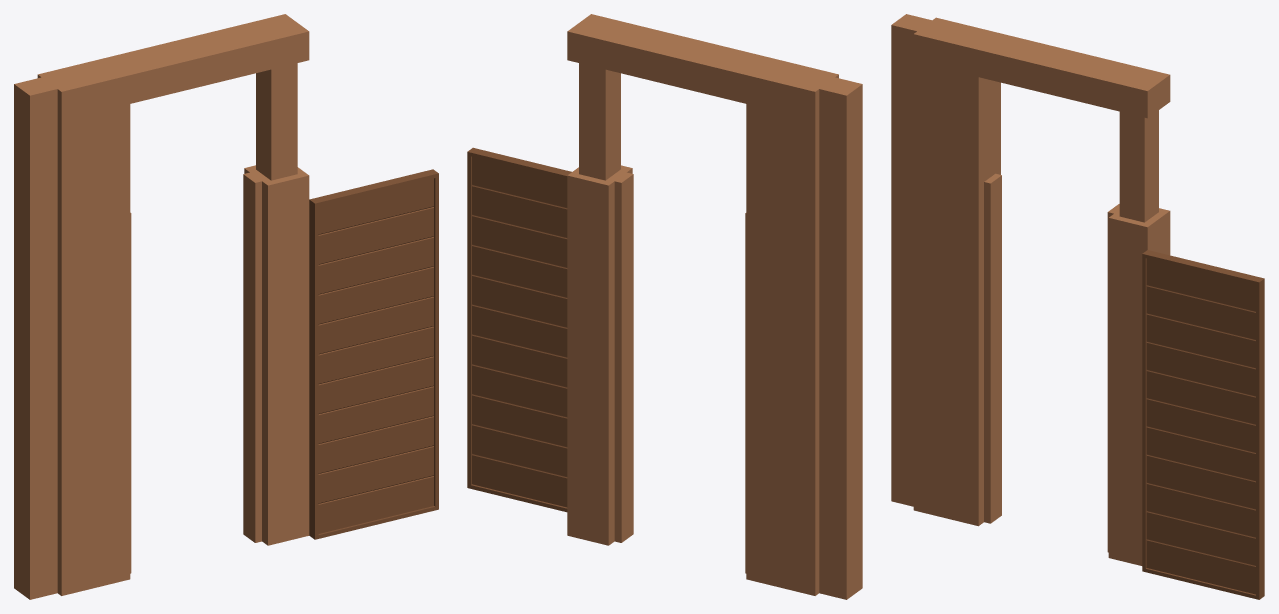
Rendered from SM_fence_04_A.glb.
3 renders of one model, left to right at view 1: azimuth 30°, elevation 25°; view 2: azimuth 150°, elevation 25°; view 3: azimuth 330°, elevation 25°, orthographic. The views are drawn at different scales.
Visible parts, largest first — view 1: SM_fence_04_A, fence_04_A_Door_01; view 2: SM_fence_04_A, fence_04_A_Door_01; view 3: SM_fence_04_A, fence_04_A_Door_01.
Part boxes in pixels (x1,y1,x2,y2): SM_fence_04_A: (14,14,309,599); fence_04_A_Door_01: (309,169,438,539); SM_fence_04_A: (567,14,862,599); fence_04_A_Door_01: (467,147,571,512); SM_fence_04_A: (891,14,1170,565); fence_04_A_Door_01: (1142,250,1264,599).
Bounding box in the file's own units: 2.9 × 3.5 × 0.3709.
Materials: 1 (1 with a texture image).
